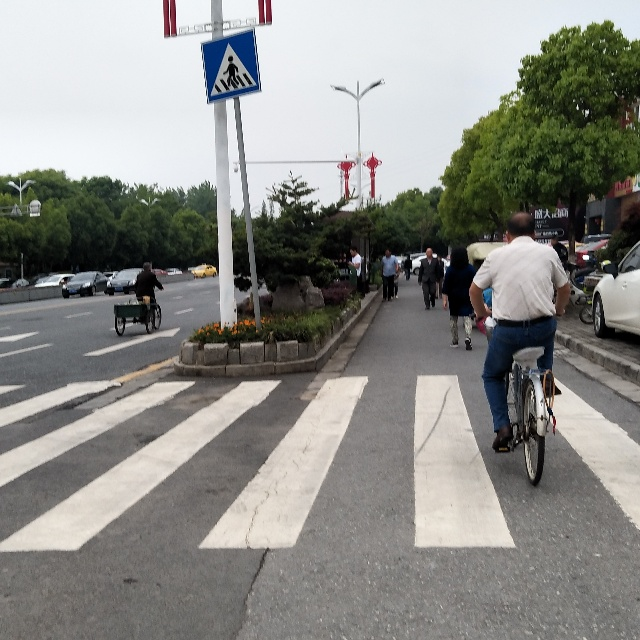crosswalk: (208, 42, 252, 96)
